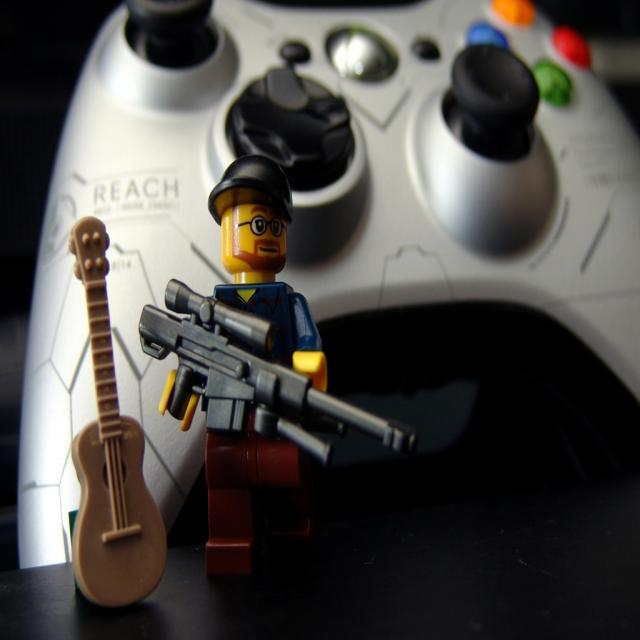weapon: (140, 278, 415, 461)
